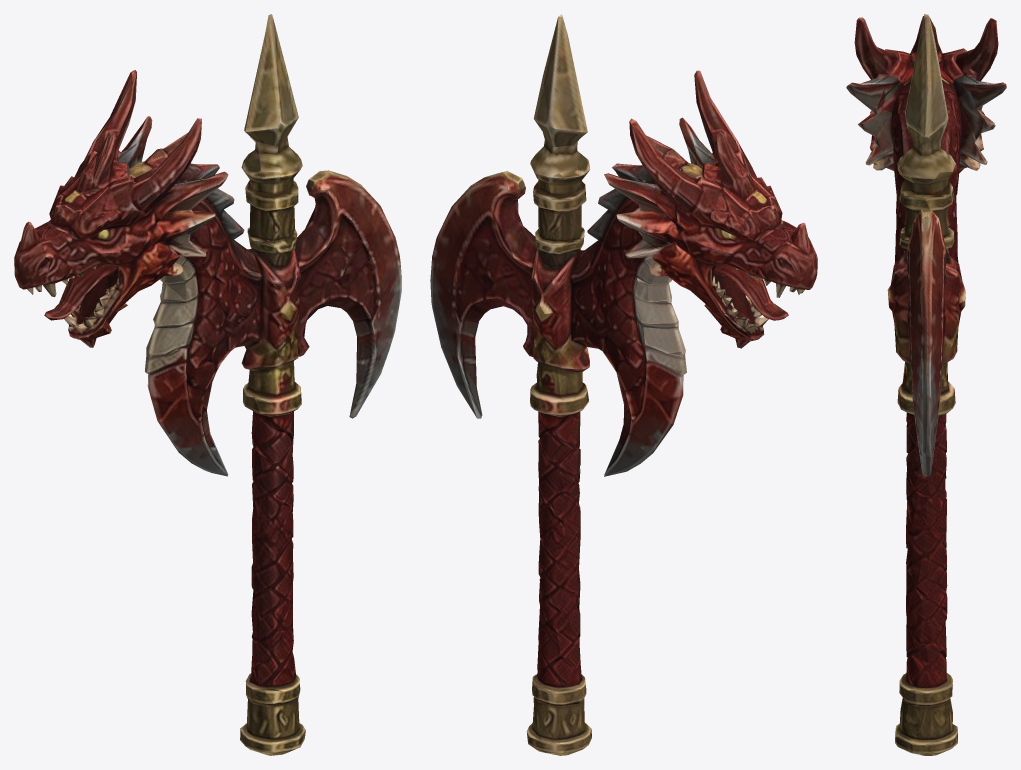
File: dragon_halberd.glb
The picture shows the model from 3 angles, left to right: view 1: azimuth 30°, elevation 25°; view 2: azimuth 150°, elevation 25°; view 3: azimuth 270°, elevation 25°; orthographic projection.
Bounding box in the file's own units: 1.5 × 2.75 × 0.5424.
Materials: 1 (1 with a texture image).
